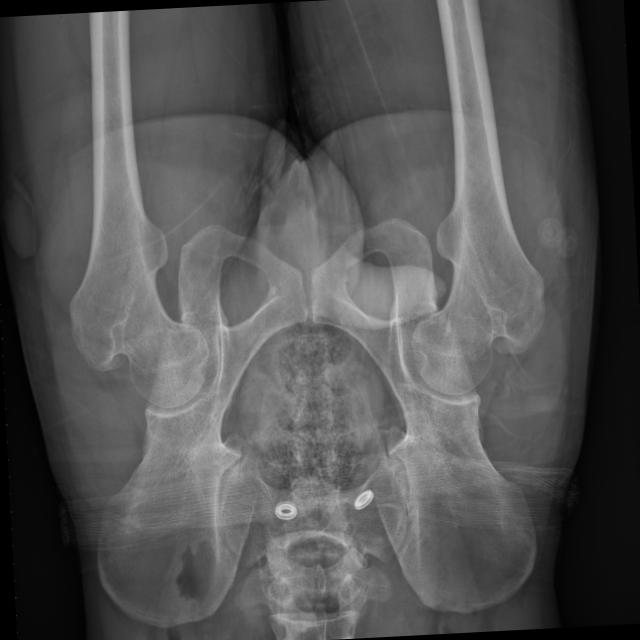normal-left: (68, 70, 208, 407)
normal-right: (411, 52, 544, 395)
